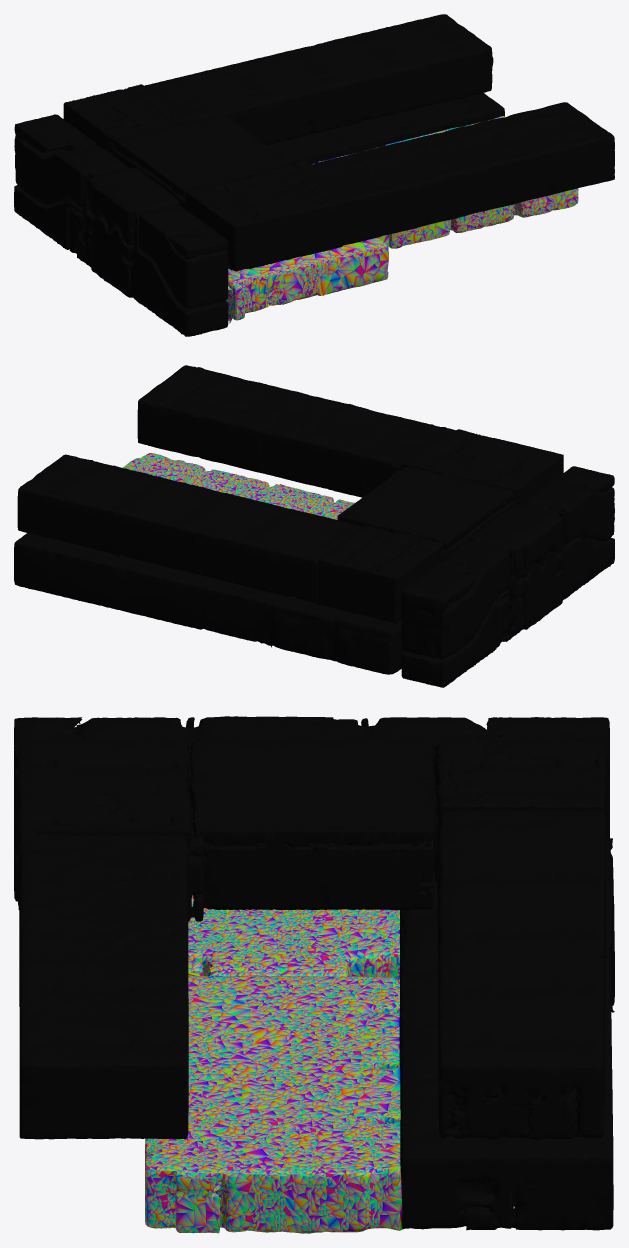
File: Biblioteca_fix.fbx
3 views of the same model, one above another, from view 1: azimuth 30°, elevation 25°; view 2: azimuth 150°, elevation 25°; view 3: azimuth 270°, elevation 25° (orthographic). The views are drawn at different scales.
Parts seen in each view (by area): view 1: LobbySceneMeshOverride [GLOBAL_MESH_0086_V]; view 2: LobbySceneMeshOverride [GLOBAL_MESH_0086_V]; view 3: LobbySceneMeshOverride [GLOBAL_MESH_0086_V].
Part boxes in pixels (x1,y1,x2,y2): LobbySceneMeshOverride [GLOBAL_MESH_0086_V]: [14, 14, 614, 336]; LobbySceneMeshOverride [GLOBAL_MESH_0086_V]: [14, 365, 614, 687]; LobbySceneMeshOverride [GLOBAL_MESH_0086_V]: [14, 716, 614, 1233].
Bounding box in the file's own units: 3049 × 656 × 2099.
